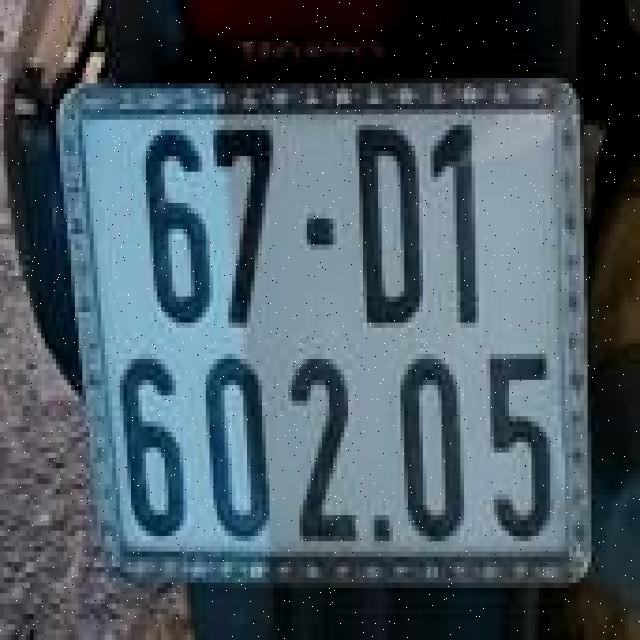0: (391, 346, 481, 549), (196, 346, 279, 554)
1: (430, 120, 494, 328)
2: (279, 341, 365, 559)
5: (481, 336, 563, 554)
6: (131, 120, 221, 359), (114, 346, 193, 570)
7: (206, 120, 284, 343)
D: (350, 109, 428, 338)
